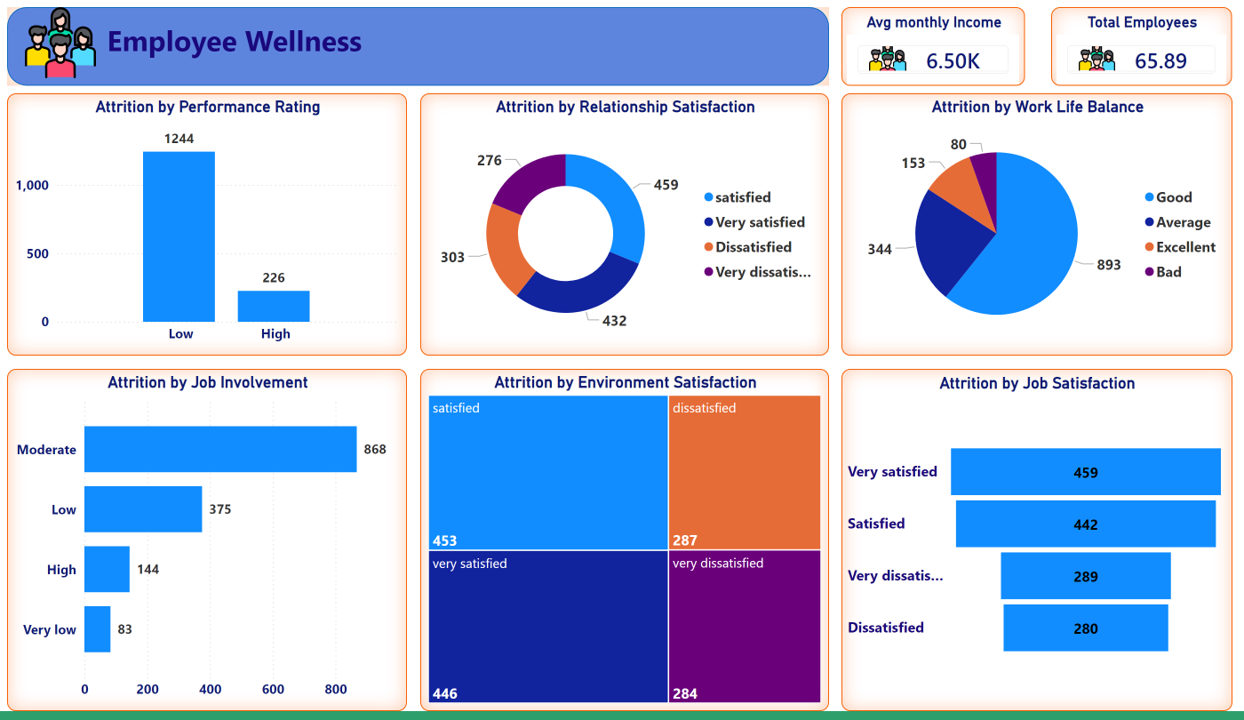

The page's visual inventory and layout, read from the dashboard file:
{"tool":"powerbi","page":{"name":"Employee Wellness","canvas":[1400,800],"ordinal":4},"visuals":[{"type":"shape","box":[8.3,8.3,925,88.3],"z":0},{"type":"textbox","box":[83.3,18.3,361.7,58.3],"z":1000},{"type":"image","box":[28.3,8.3,80,80],"z":2000},{"type":"clusteredBarChart","title":"Attrition by Job Involvement","fields":{"Y":["CountNonNull(HR-Employee-Attrition.Attrition)"],"Category":["HR-Employee-Attrition.Job Involvement (groups)"]},"box":[8.3,415,450,385],"z":3000},{"type":"donutChart","title":"Attrition by Relationship Satisfaction","fields":{"Category":["HR-Employee-Attrition.Relationship Satisfaction (groups)"],"Y":["CountNonNull(HR-Employee-Attrition.Attrition)"]},"box":[473.3,105,460,295],"z":4000},{"type":"pieChart","title":"Attrition by Work Life Balance","fields":{"Y":["CountNonNull(HR-Employee-Attrition.Attrition)"],"Category":["HR-Employee-Attrition.Work Life Balance (groups)"]},"box":[946.7,105,440,295],"z":5000},{"type":"clusteredColumnChart","title":"Attrition by Performance Rating","fields":{"Category":["HR-Employee-Attrition.Performance Rating (groups)"],"Y":["CountNonNull(HR-Employee-Attrition.Attrition)"]},"box":[8.3,105,450,295],"z":6000},{"type":"funnel","title":"Attrition by Job Satisfaction","fields":{"Category":["HR-Employee-Attrition.Job Satisfaction (groups)"],"Y":["CountNonNull(HR-Employee-Attrition.Attrition)"]},"box":[946.7,415,440,385],"z":7000},{"type":"treemap","title":"Attrition by Environment Satisfaction","fields":{"Group":["HR-Employee-Attrition.Environment Satisfaction (groups)"],"Values":["CountNonNull(HR-Employee-Attrition.Attrition)"]},"box":[473.3,415,460,385],"z":8000},{"type":"cardVisual","title":"Avg monthly Income","fields":{"Data":["Avg(HR-Employee-Attrition.Monthly Income)"]},"box":[946.7,8.3,206.7,88.3],"z":9000},{"type":"cardVisual","title":"Total Employees","fields":{"Data":["Avg(HR-Employee-Attrition.Hourly Rate)"]},"box":[1183.3,8.3,203.3,88.3],"z":10000}]}

Visuals, with their boxes in screenshot pixels (x1, y1, x2, y2), scaled from the page's 1400x800 canvas onto the 1244x720 screenshot:
shape: {"left": 7, "top": 7, "right": 829, "bottom": 87}
textbox: {"left": 74, "top": 16, "right": 395, "bottom": 69}
image: {"left": 25, "top": 7, "right": 96, "bottom": 79}
"Attrition by Job Involvement" clusteredBarChart: {"left": 7, "top": 374, "right": 407, "bottom": 719}
"Attrition by Relationship Satisfaction" donutChart: {"left": 421, "top": 94, "right": 829, "bottom": 360}
"Attrition by Work Life Balance" pieChart: {"left": 841, "top": 94, "right": 1232, "bottom": 360}
"Attrition by Performance Rating" clusteredColumnChart: {"left": 7, "top": 94, "right": 407, "bottom": 360}
"Attrition by Job Satisfaction" funnel: {"left": 841, "top": 374, "right": 1232, "bottom": 719}
"Attrition by Environment Satisfaction" treemap: {"left": 421, "top": 374, "right": 829, "bottom": 719}
"Avg monthly Income" cardVisual: {"left": 841, "top": 7, "right": 1025, "bottom": 87}
"Total Employees" cardVisual: {"left": 1051, "top": 7, "right": 1232, "bottom": 87}
